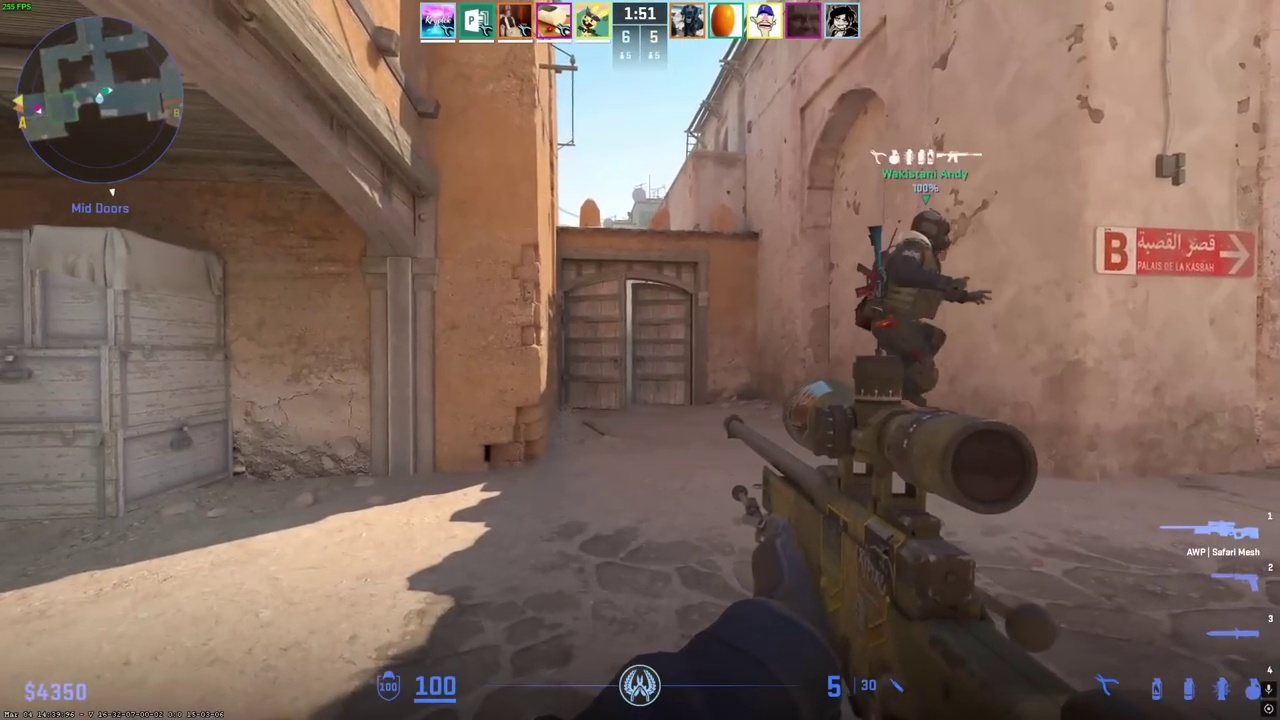CT: (858, 209, 961, 407)
